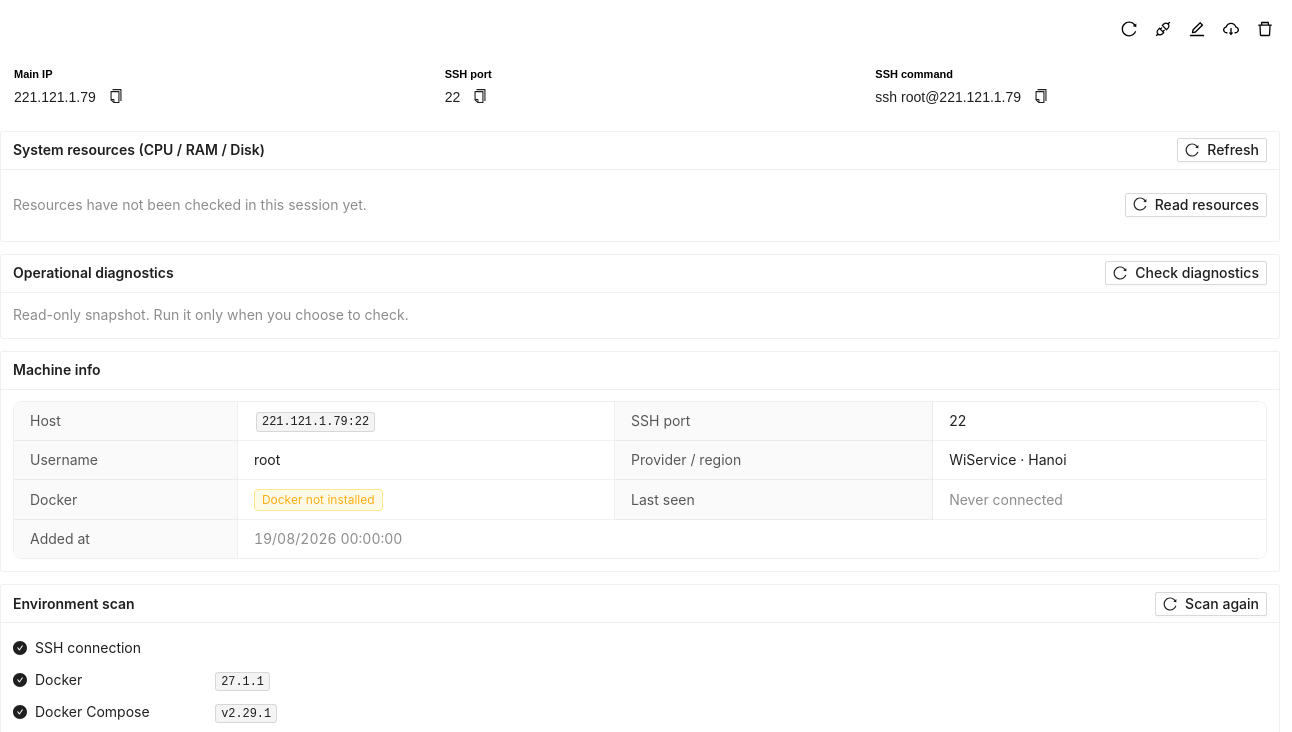
Test: VpsOverviewTab — card Environment scan › fetch diagnostics on explicit click and renders numeric zero as a measured value
The image size is (1292, 732).
Click the button "Check diagnostics". click: (1186, 273)
box: [1105,261,1267,285]
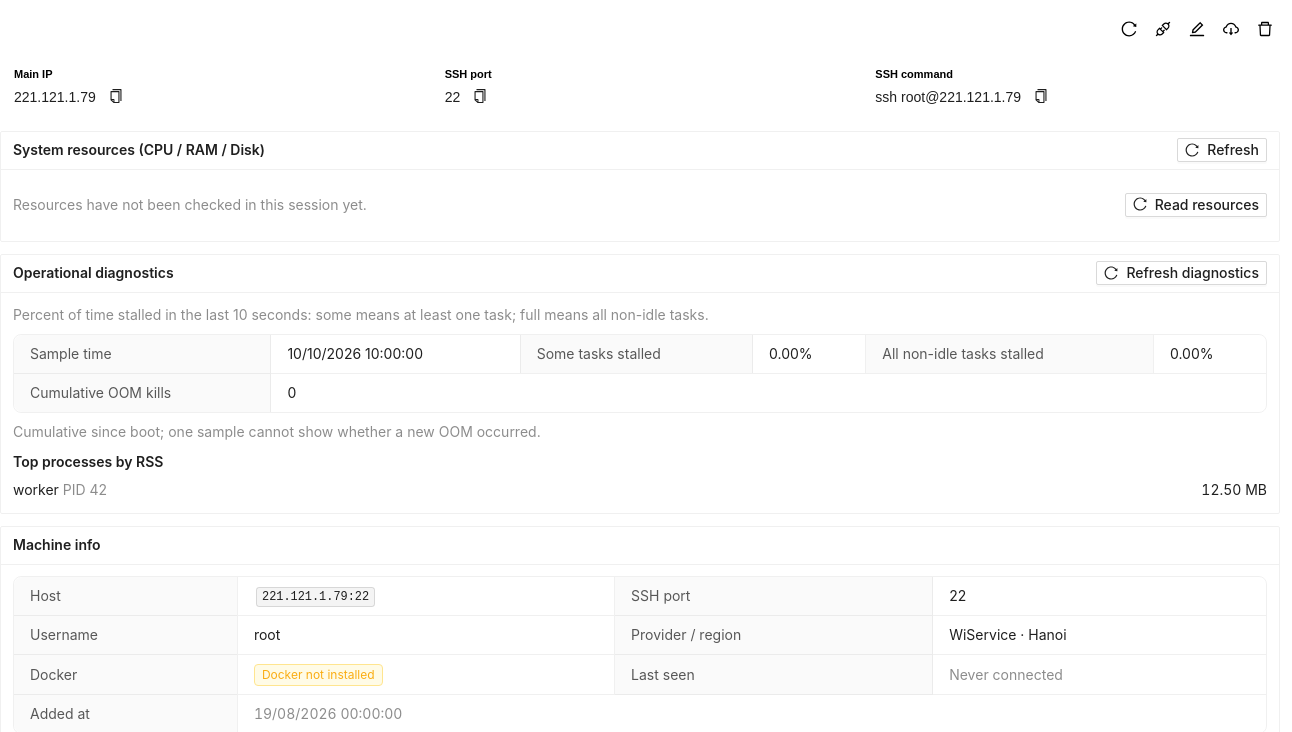
Now the text "worker" is shown, box [13,481,59,498]
Now the text "Sample time" is shown, box [30,345,112,362]
Now the text "0.00%" is shown 2 times, box [769,345,813,362]; [1170,345,1214,362]
